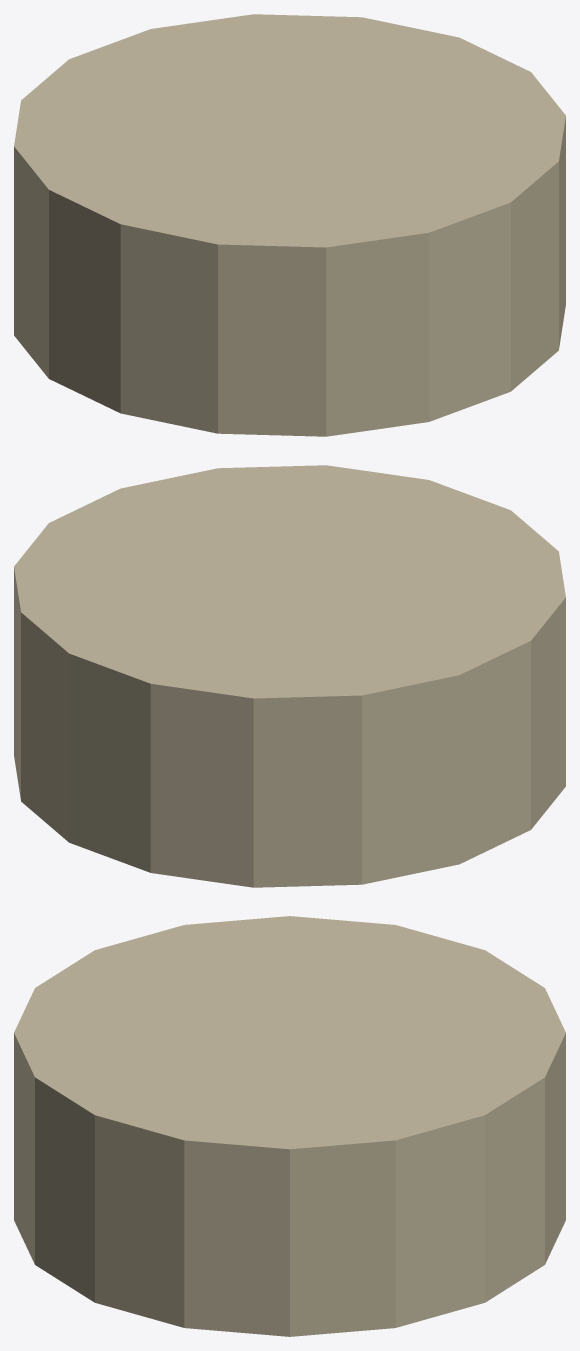
File: set_dish_stack.glb
The picture shows the model from 3 angles, top to bottom: view 1: azimuth 30°, elevation 25°; view 2: azimuth 150°, elevation 25°; view 3: azimuth 270°, elevation 25°; orthographic projection.
Visible parts, largest first — view 1: set_dish_stack; view 2: set_dish_stack; view 3: set_dish_stack.
Boxes of the visible parts, x1,y1,x2,y2 form: set_dish_stack: [14, 14, 565, 436]; set_dish_stack: [14, 465, 565, 887]; set_dish_stack: [14, 916, 565, 1336].
Bounding box in the file's own units: 0.24 × 0.09 × 0.24.
